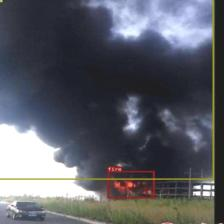fire: (107, 171, 154, 198)
smoke: (0, 0, 214, 179)
